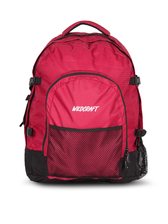bag: (14, 18, 152, 183)
